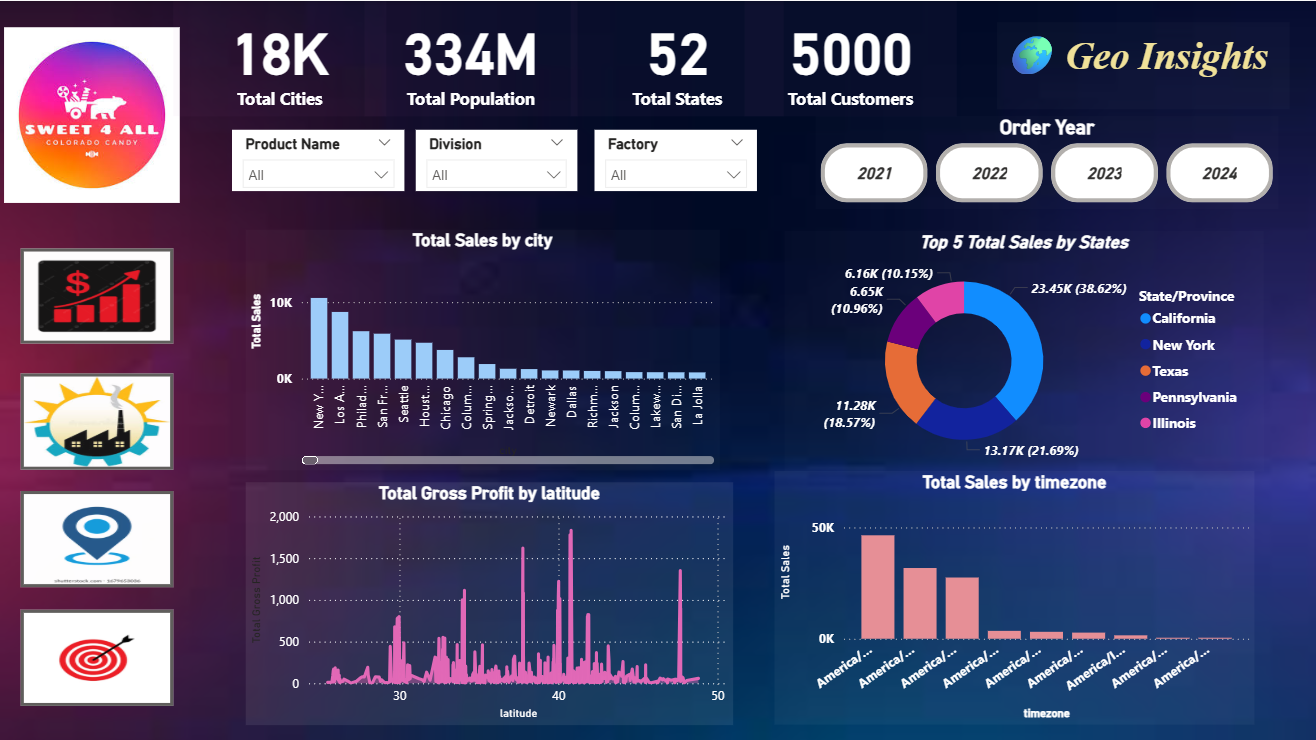

This screenshot's page, from the dashboard's own definition file:
{"tool":"powerbi","page":{"name":"Geo","canvas":[1280,720],"ordinal":3},"visuals":[{"type":"image","box":[1.2,20.5,181,179.8],"z":0},{"type":"actionButton","box":[22.9,238.9,147.2,91.7],"z":1000},{"type":"actionButton","box":[22.9,359.5,147.2,92.9],"z":2000},{"type":"actionButton","box":[22.9,472.9,147.2,92.9],"z":3000},{"type":"actionButton","box":[22.9,587.5,147.2,92.9],"z":4000},{"type":"slicer","fields":{"Values":["Candy_Products.Product Name"]},"box":[226.8,124.3,166.5,59.1],"z":5000},{"type":"slicer","fields":{"Values":["Candy_Targets.Division"]},"box":[404.2,124.3,155.6,59.1],"z":6000},{"type":"slicer","fields":{"Values":["Candy_Sales.Factory"]},"box":[576.7,124.3,156.8,59.1],"z":7000},{"type":"card","fields":{"Values":["uszips.Total Cities"]},"box":[170,0,205.7,111.4],"z":8000},{"type":"card","fields":{"Values":["uszips.Total Population"]},"box":[354.3,0,205.7,111.4],"z":9000},{"type":"card","fields":{"Values":["uszips.Total States"]},"box":[554.3,0,205.7,111.4],"z":10000},{"type":"advancedSlicerVisual","fields":{"Values":["Candy_Sales.Order Year"]},"box":[790.2,111,446.4,89.3],"z":11000},{"type":"card","fields":{"Values":["Candy_Sales.Total Customers"]},"box":[721.4,0,204.9,111.1],"z":12000},{"type":"lineStackedColumnComboChart","fields":{"Y":["Candy_Sales.Total Sales"],"Category":["uszips.city"]},"box":[240.1,220.8,457.2,231.6],"z":13000},{"type":"donutChart","title":"Top 5 Total Sales by States","fields":{"Category":["Candy_Sales.State/Province"],"Y":["Candy_Sales.Total Sales"]},"box":[760.1,222,462.1,231.6],"z":14000},{"type":"stackedAreaChart","fields":{"Category":["uszips.latitude"],"Y":["Candy_Sales.Total Gross Profit"]},"box":[240.1,464.5,470.5,234],"z":15000},{"type":"clusteredColumnChart","fields":{"Category":["uszips.timezone"],"Y":["Candy_Sales.Total Sales"]},"box":[750.4,453.6,463.3,244.9],"z":16000},{"type":"textbox","box":[965.2,20.2,282.8,83.7],"z":17000}]}

Visuals, with their boxes in screenshot pixels (x1, y1, x2, y2), scaled from the page's 1280x720 canvas onto the 1316x740 screenshot:
image: 1,21,187,206
actionButton: 24,246,175,340
actionButton: 24,369,175,465
actionButton: 24,486,175,582
actionButton: 24,604,175,699
slicer - Candy_Products.Product Name: 233,128,404,188
slicer - Candy_Targets.Division: 416,128,576,188
slicer - Candy_Sales.Factory: 593,128,754,188
card - uszips.Total Cities: 175,0,386,114
card - uszips.Total Population: 364,0,576,114
card - uszips.Total States: 570,0,781,114
advancedSlicerVisual - Candy_Sales.Order Year: 812,114,1271,206
card - Candy_Sales.Total Customers: 742,0,952,114
lineStackedColumnComboChart - Candy_Sales.Total Sales x uszips.city: 247,227,717,465
"Top 5 Total Sales by States" donutChart: 781,228,1257,466
stackedAreaChart - uszips.latitude x Candy_Sales.Total Gross Profit: 247,477,731,718
clusteredColumnChart - uszips.timezone x Candy_Sales.Total Sales: 772,466,1248,718
textbox: 992,21,1283,107
